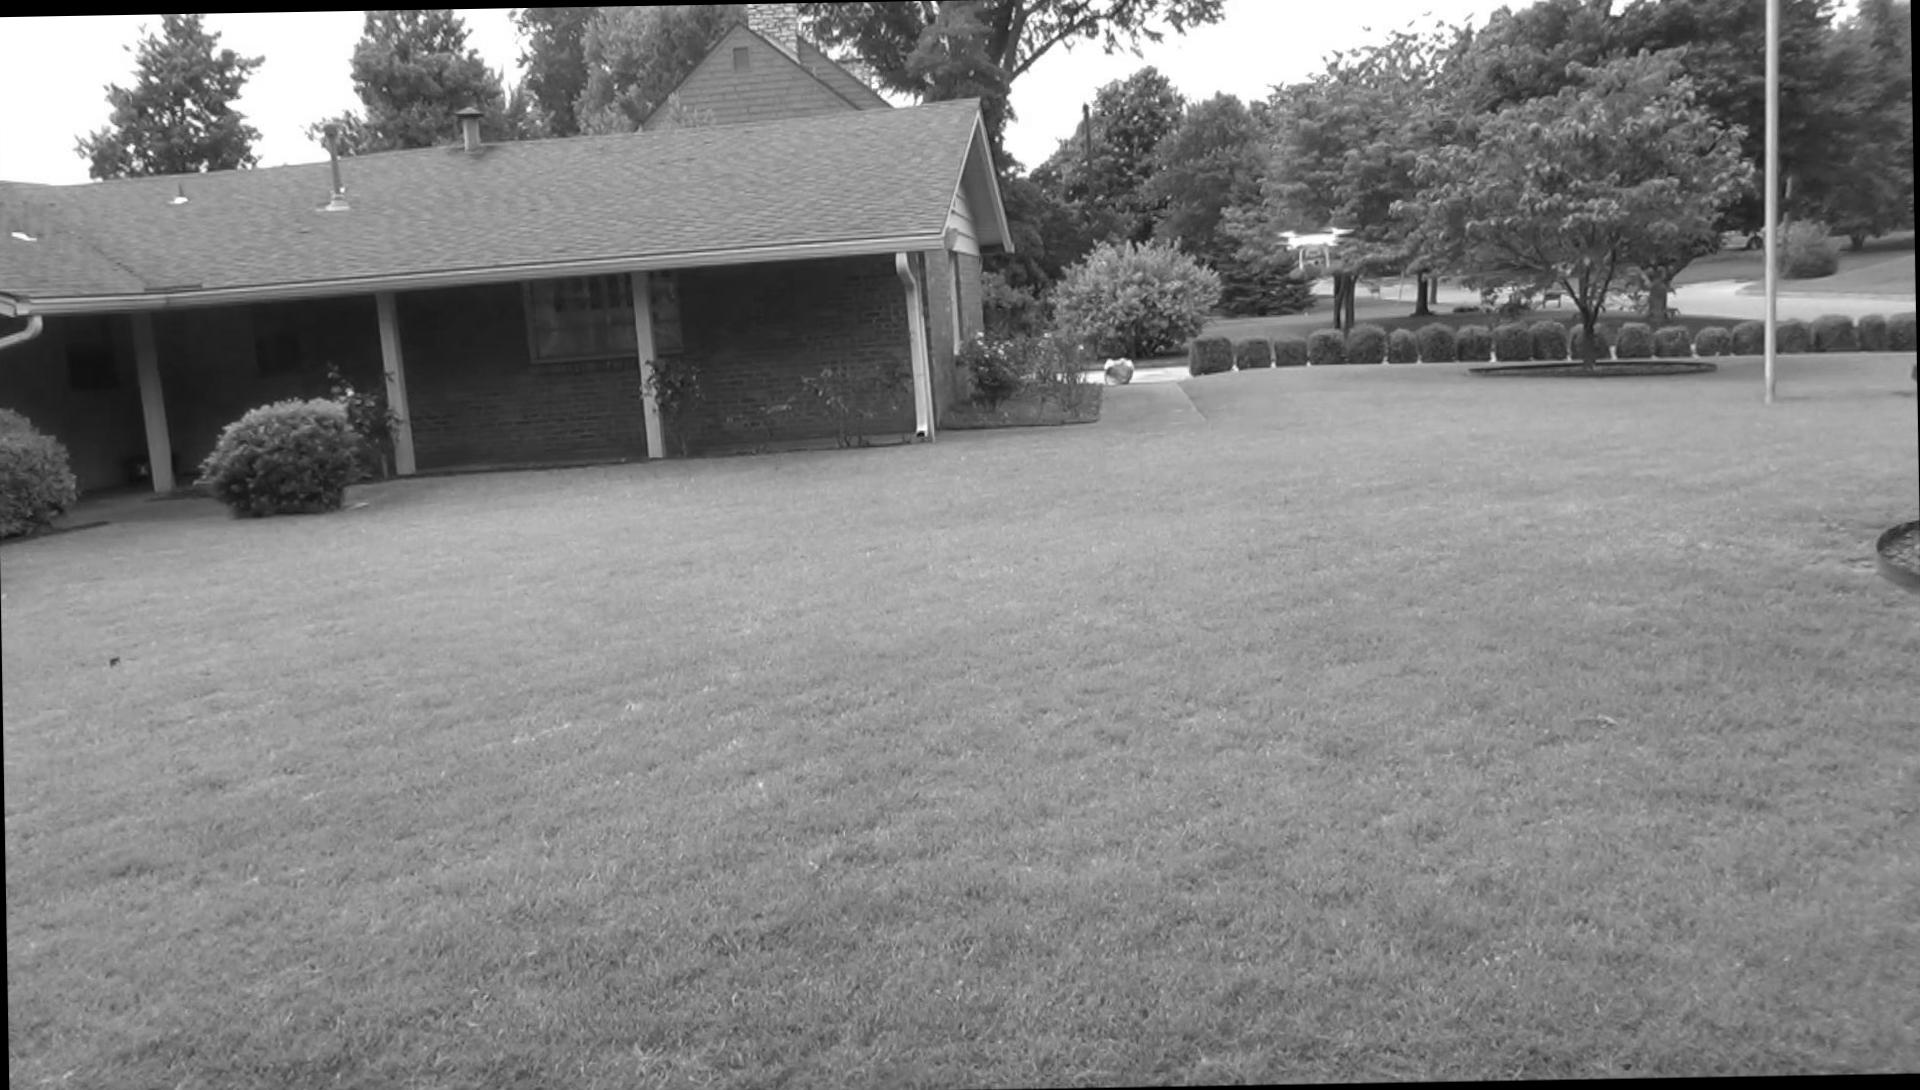drone: (1273, 219, 1350, 265)
